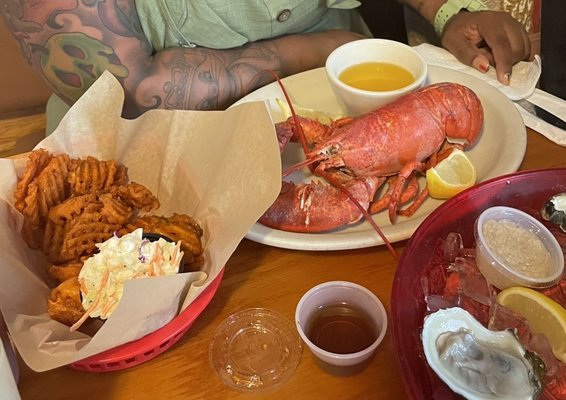pizza: (294, 280, 389, 376), (474, 205, 565, 293), (426, 148, 477, 200)
soup: (8, 150, 206, 312)
sushi: (421, 305, 539, 399), (294, 279, 389, 377), (325, 38, 428, 117), (474, 206, 565, 293)
